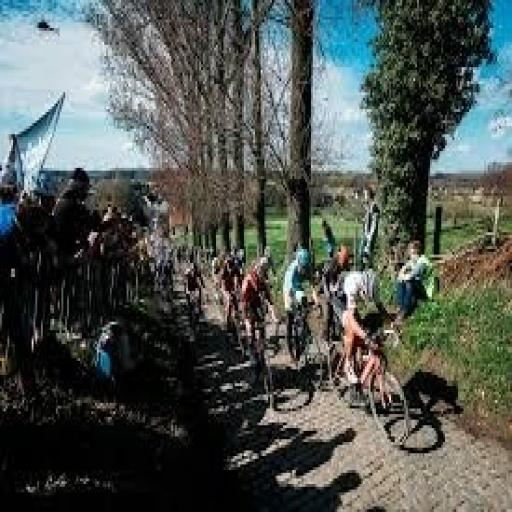cycling: (331, 263, 395, 392), (236, 249, 280, 367), (280, 244, 318, 366), (391, 235, 439, 330)
